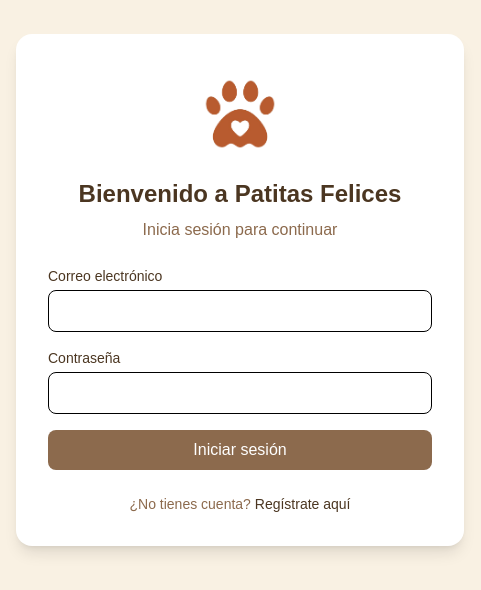
Test case: LoginPage › muestra error si las credenciales son inválidas
The image size is (481, 590).
In the field labelled "Correo electrónico": (240,311) top-left (48, 290), bottom-right (432, 332), type "x@y.com"
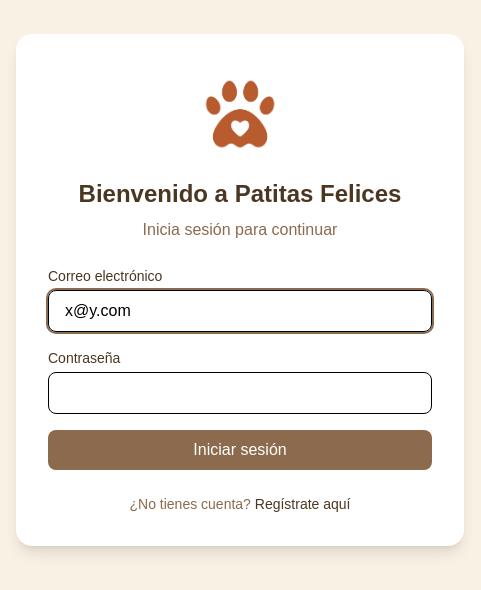
In the password field labelled "Contraseña": (240,393) top-left (48, 372), bottom-right (432, 414), type "wrong"
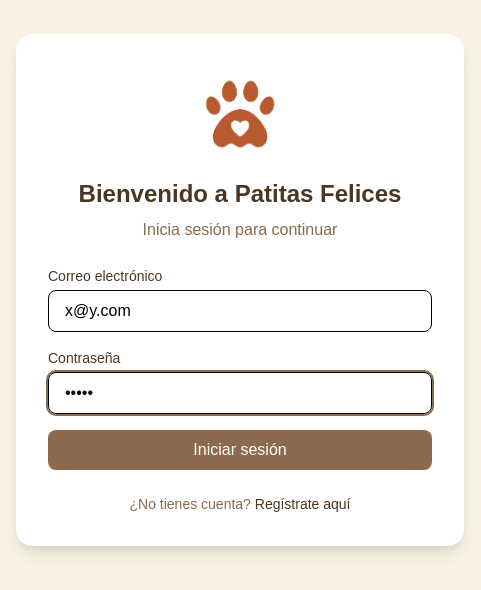
Click the button "Iniciar sesión": (240,450) top-left (48, 430), bottom-right (432, 470)
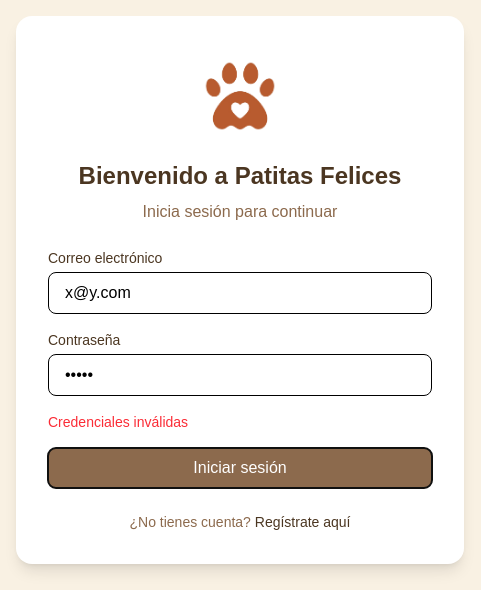
expect the text "Credenciales inválidas" is shown: met, box top-left (48, 414), bottom-right (188, 430)
